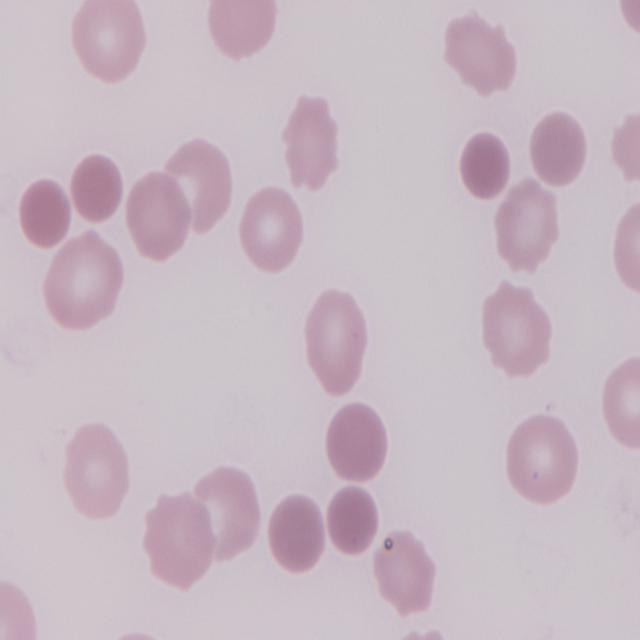RBC: (41, 230, 126, 333), (142, 490, 217, 591), (478, 279, 554, 378), (302, 288, 370, 398), (504, 412, 582, 507), (61, 422, 130, 524), (442, 8, 518, 98), (71, 0, 150, 85), (124, 169, 194, 262), (278, 90, 340, 192), (236, 186, 306, 276), (494, 180, 560, 274), (370, 528, 436, 619), (203, 1, 279, 67), (601, 350, 640, 454), (613, 196, 640, 304), (0, 571, 38, 638)
Spherocyte: (324, 398, 392, 482), (266, 490, 330, 573), (526, 111, 590, 188), (68, 152, 125, 226), (326, 480, 380, 556), (15, 180, 71, 250), (458, 131, 514, 199)
